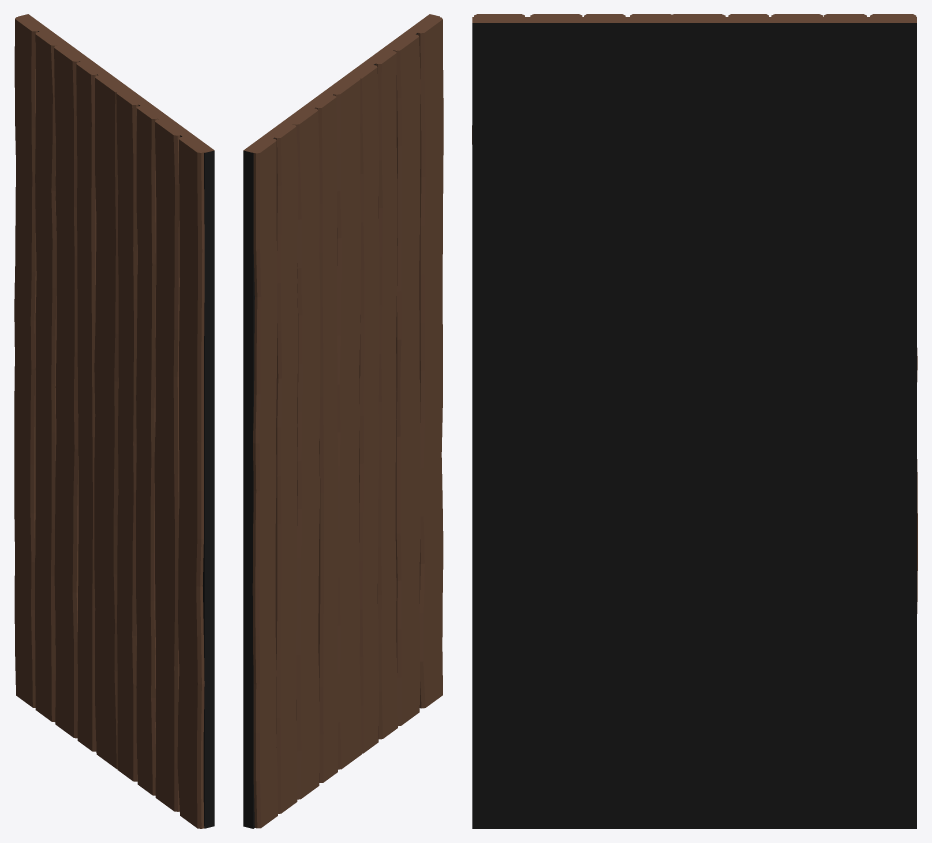
The model's file is Wooden_Wall.fbx.
The picture shows the model from 3 angles, left to right: view 1: azimuth 30°, elevation 25°; view 2: azimuth 150°, elevation 25°; view 3: azimuth 270°, elevation 25°; orthographic projection. The views are drawn at different scales.
Parts seen in each view (by area): view 1: Wooden_Wall; view 2: Wooden_Wall; view 3: Wooden_Wall.
Boxes of the visible parts, <box> form: Wooden_Wall: <box>14,14,214,828</box>; Wooden_Wall: <box>243,14,443,828</box>; Wooden_Wall: <box>472,14,917,828</box>.
Size of the model in its own units: 9.49 by 400 by 201.
Materials: 1 (1 with a texture image).
